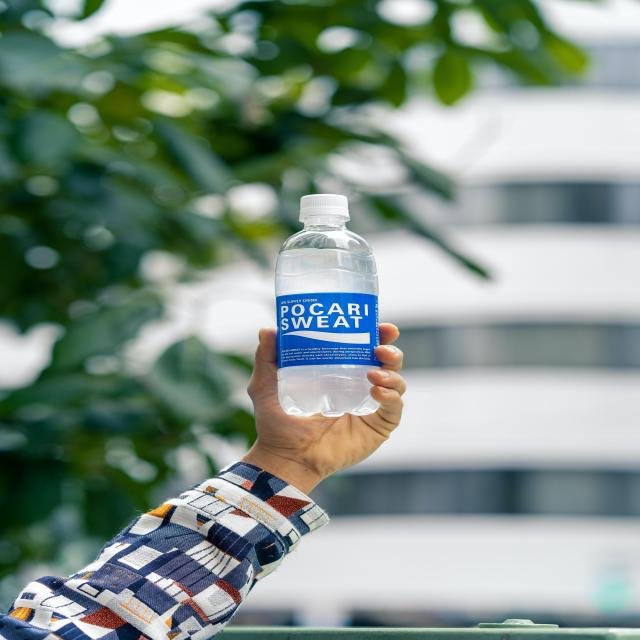bottle-plastic: (266, 185, 393, 421)
